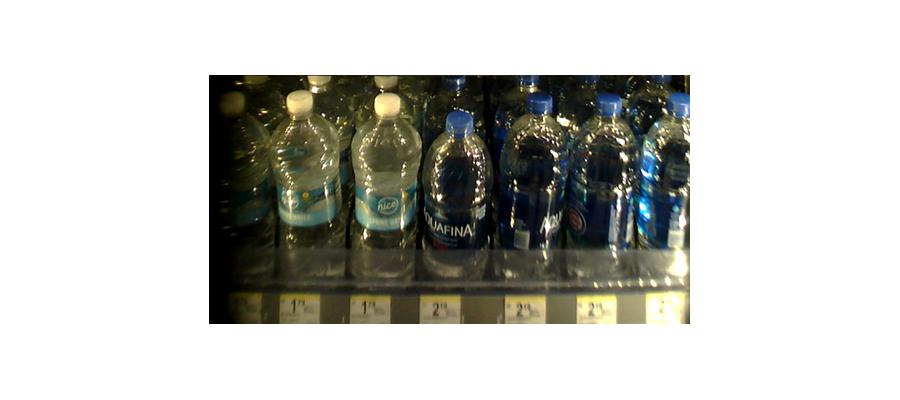bottle: (496, 89, 568, 285), (275, 87, 344, 286), (349, 92, 417, 288), (422, 110, 494, 289), (569, 90, 636, 282), (218, 88, 271, 286), (640, 88, 691, 293)
